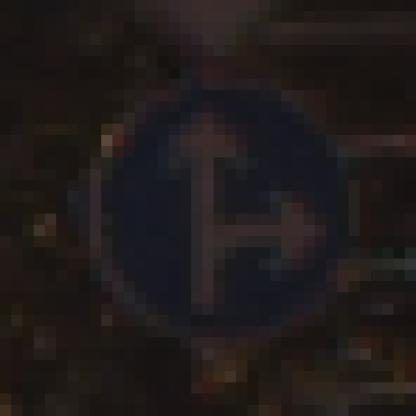Straight or Right: (68, 68, 361, 361)
